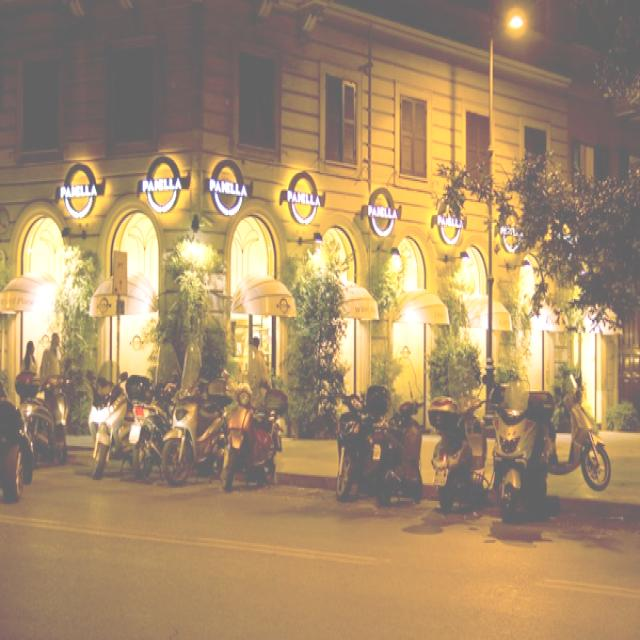Motorbike: (330, 376, 555, 534), (79, 367, 290, 498), (542, 363, 612, 492)
